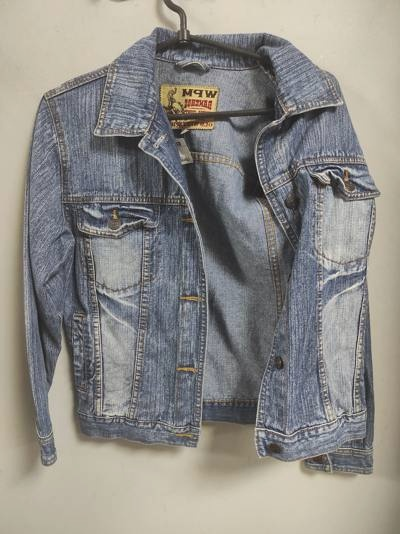Blazer: (6, 24, 373, 485)
